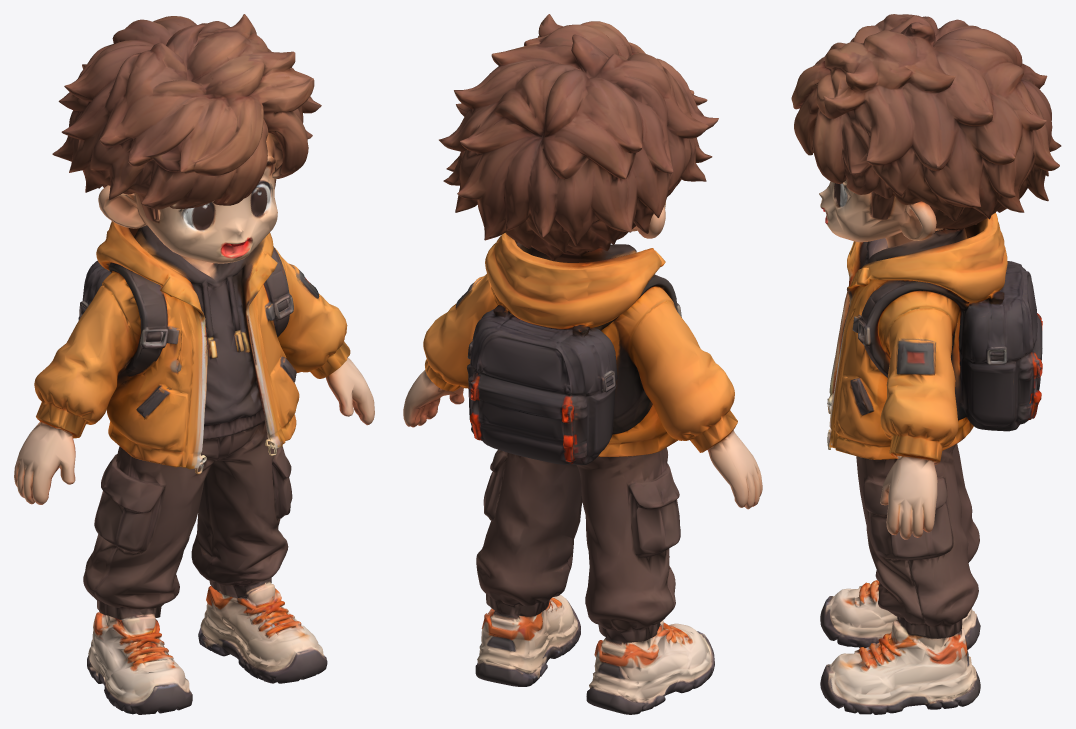
Rendered from avatar-orange.glb.
3 views of the same model, side by side, from view 1: azimuth 30°, elevation 25°; view 2: azimuth 150°, elevation 25°; view 3: azimuth 270°, elevation 25° (orthographic).
Parts seen in each view (by area): view 1: node_0; view 2: node_0; view 3: node_0.
Part boxes in pixels (x1,y1,x2,y2): node_0: (14,14,374,714); node_0: (403,14,762,714); node_0: (791,14,1061,714).
Bounding box in the file's own units: 0.6416 × 1.13 × 0.4287.
Materials: 1 (1 with a texture image).
